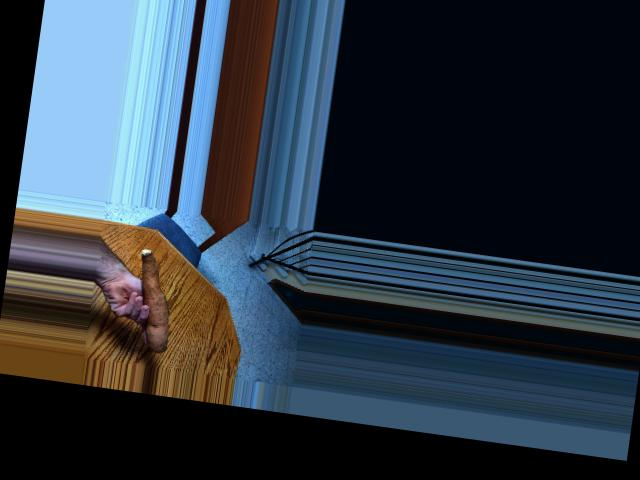sweet_potato: (127, 245, 187, 351)
